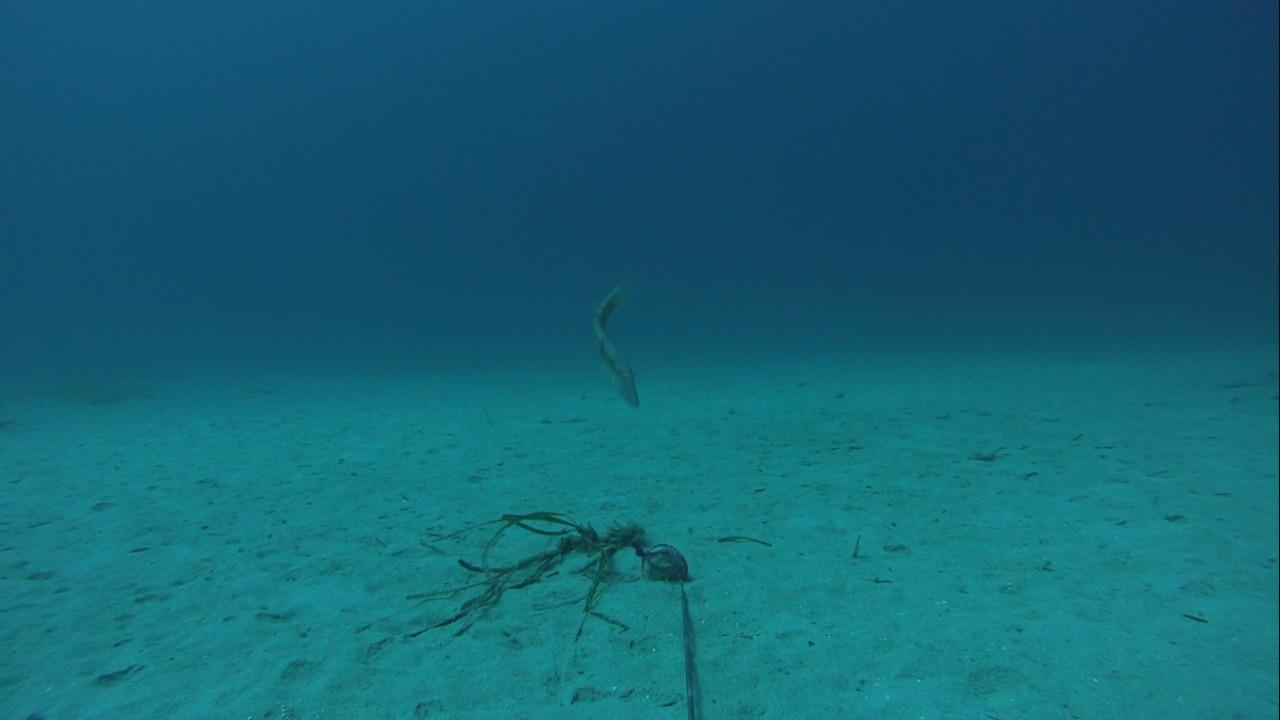raor: (584, 279, 650, 412)
